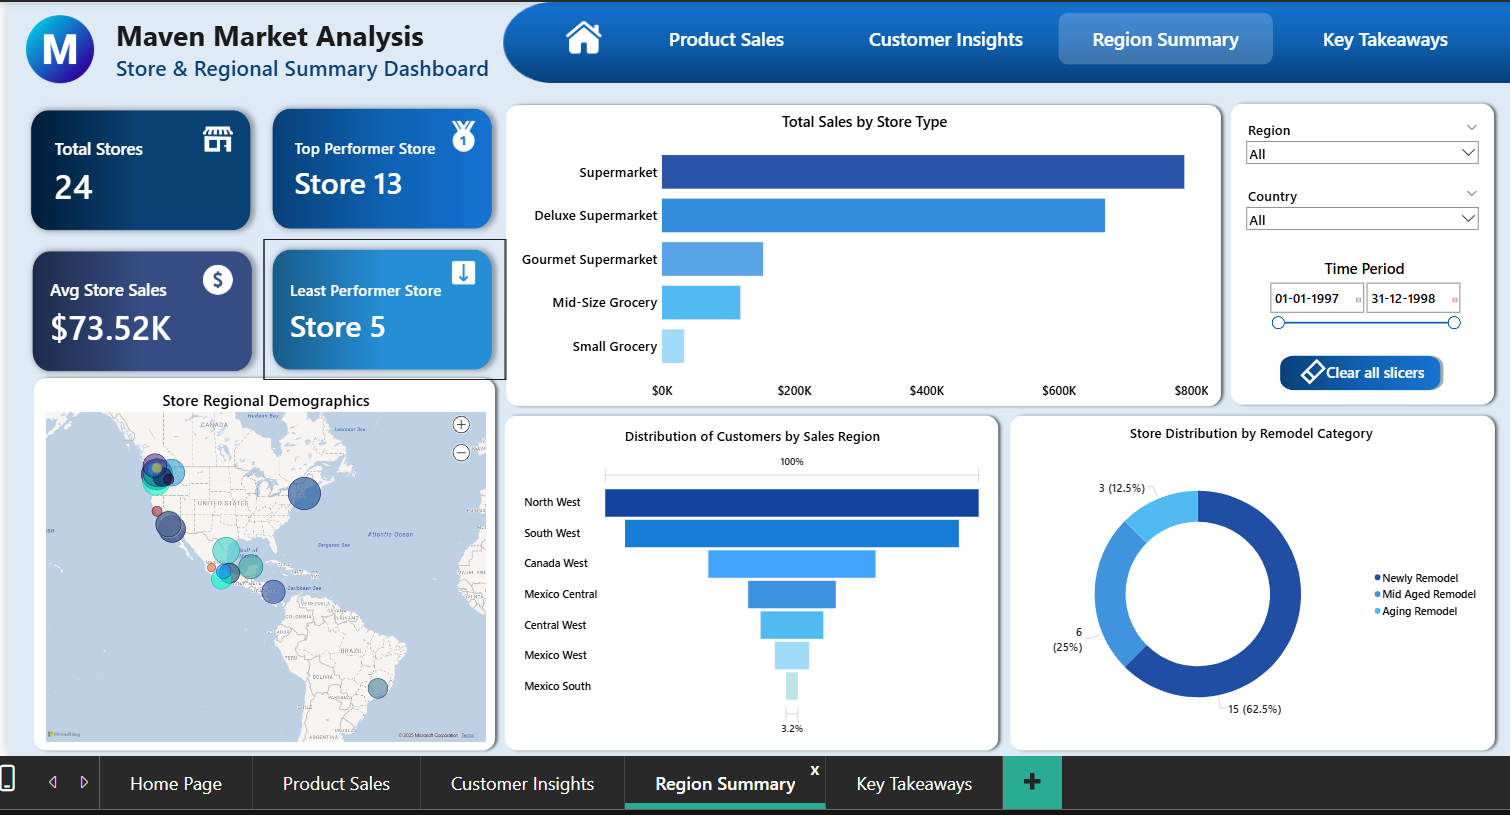

The page's visual inventory and layout, read from the dashboard file:
{"tool":"powerbi","page":{"name":"Region Summary","canvas":[3000,1500],"ordinal":3},"visuals":[{"type":"image","box":[511,191.6,481.2,281.3],"z":0,"group":"g5"},{"type":"shape","box":[2423.9,191.6,546.5,621.1],"z":0},{"type":"image","box":[30.5,193.2,481.2,281.3],"z":0,"group":"g3"},{"type":"group","id":"g1","title":"Group 5","box":[511,472,481.2,281.3],"z":0,"group":"g6"},{"type":"image","box":[31.9,475.6,481.2,281.3],"z":0,"group":"g4"},{"type":"image","box":[2526.8,699.1,335.9,78.7],"z":0,"group":"g2"},{"type":"image","box":[24.8,21.3,163.3,145.5],"z":1000},{"type":"cardVisual","fields":{"Data":["Measure_Table.Top Performer Store"]},"box":[557.1,244.8,315.9,177.4],"z":1000,"group":"g5"},{"type":"cardVisual","fields":{"Data":["Measure_Table.Total Stores"]},"box":[78.1,248.5,287.5,170.3],"z":1000,"group":"g3"},{"type":"cardVisual","fields":{"Data":["Measure_Table.Least Performer Store"]},"box":[546.3,528.8,344.2,177.4],"z":1000,"group":"g6"},{"type":"cardVisual","fields":{"Data":["Measure_Table.Avg Store Sales"]},"box":[66.7,530.9,276.8,170.3],"z":1000,"group":"g4"},{"type":"textbox","box":[211.9,20.9,769.9,146.2],"z":2000},{"type":"image","box":[855.2,220,110,92.3],"z":2000,"group":"g5"},{"type":"image","box":[351.3,230.7,134.9,78.1],"z":2000,"group":"g3"},{"type":"image","box":[511,472,481.2,281.3],"z":2000,"group":"g1"},{"type":"image","box":[871.9,504.8,74.6,68.6],"z":2000,"group":"g6"},{"type":"image","box":[350.7,513.1,134.9,78.1],"z":2000,"group":"g4"},{"type":"slicer","title":"Time Period","fields":{"Values":["Calendar.date"]},"box":[2499.7,511.4,399.5,166.4],"z":8000},{"type":"group","id":"g2","title":"Group 1","box":[2526.8,699.1,337.1,78.1],"z":9000},{"type":"shape","box":[983.1,195.2,1444.4,621.1],"z":10000},{"type":"shape","box":[979.5,812.7,1004.3,688.5],"z":11000},{"type":"shape","box":[42.6,738.2,940.5,763],"z":12000},{"type":"shape","box":[1983.8,812.7,986.6,688.5],"z":13000},{"type":"clusteredBarChart","title":"Total Sales by Store Type","fields":{"Category":["Stores.store_type"],"Y":["Measure_Table.Total_sales"]},"box":[1018.5,216.5,1377,582],"z":14000},{"type":"funnel","title":"Distribution of Customers by  Sales Region","fields":{"Category":["Regions.sales_region"],"Y":["CountNonNull(Customers.customer_id)"]},"box":[1022.1,844.6,919.2,631.7],"z":15000},{"type":"map","title":"Store Regional Demographics","fields":{"Category":["Stores.store_city"],"Size":["Measure_Table.Total_sales"]},"box":[71,770.1,887.2,706.2],"z":16000},{"type":"actionButton","box":[2560.1,705.2,272.4,63.6],"z":17000,"group":"g2"},{"type":"donutChart","title":"Store Distribution by Remodel Category","fields":{"Y":["CountNonNull(Stores.store_id)"],"Category":["Stores.remodel_category"]},"box":[2015.8,837.5,922.7,642.4],"z":17000},{"type":"slicer","fields":{"Values":["Regions.sales_region"]},"box":[2457.3,230,481.2,124.1],"z":18000},{"type":"slicer","fields":{"Values":["Stores.store_country"]},"box":[2457.3,360.1,481.2,118],"z":19000},{"type":"group","id":"g3","title":"Group 2","box":[30.5,193.2,481.2,281.3],"z":20000},{"type":"group","id":"g4","title":"Group 3","box":[31.9,475.6,482.7,283.9],"z":21000},{"type":"group","id":"g5","title":"Group 6","box":[511,191.6,482.7,280.4],"z":22000},{"type":"group","id":"g6","title":"Group 4","box":[511,472,481.2,281.3],"z":23000},{"type":"pageNavigator","box":[1217.5,20.9,1739.8,104.4],"z":23001},{"type":"image","box":[1077.3,20.9,140.3,104.4],"z":23002}]}

Visuals, with their boxes on the page's 3000x1500 design canvas (x1, y1, x2, y2). These are canvas units, not pixel positions in the 1510x815 screenshot, which may show the page scaled, cropped or inside an application window:
image: (511,192,992,473)
shape: (2424,192,2970,813)
image: (30,193,512,474)
"Group 5" group: (511,472,992,753)
image: (32,476,513,757)
image: (2527,699,2863,778)
image: (25,21,188,167)
cardVisual - Measure_Table.Top Performer Store: (557,245,873,422)
cardVisual - Measure_Table.Total Stores: (78,248,366,419)
cardVisual - Measure_Table.Least Performer Store: (546,529,890,706)
cardVisual - Measure_Table.Avg Store Sales: (67,531,344,701)
textbox: (212,21,982,167)
image: (855,220,965,312)
image: (351,231,486,309)
image: (511,472,992,753)
image: (872,505,946,573)
image: (351,513,486,591)
"Time Period" slicer: (2500,511,2899,678)
"Group 1" group: (2527,699,2864,777)
shape: (983,195,2428,816)
shape: (980,813,1984,1501)
shape: (43,738,983,1501)
shape: (1984,813,2970,1501)
"Total Sales by Store Type" clusteredBarChart: (1018,216,2396,798)
"Distribution of Customers by  Sales Region" funnel: (1022,845,1941,1476)
"Store Regional Demographics" map: (71,770,958,1476)
actionButton: (2560,705,2832,769)
"Store Distribution by Remodel Category" donutChart: (2016,838,2938,1480)
slicer - Regions.sales_region: (2457,230,2938,354)
slicer - Stores.store_country: (2457,360,2938,478)
"Group 2" group: (30,193,512,474)
"Group 3" group: (32,476,515,760)
"Group 6" group: (511,192,994,472)
"Group 4" group: (511,472,992,753)
pageNavigator: (1218,21,2957,125)
image: (1077,21,1218,125)
